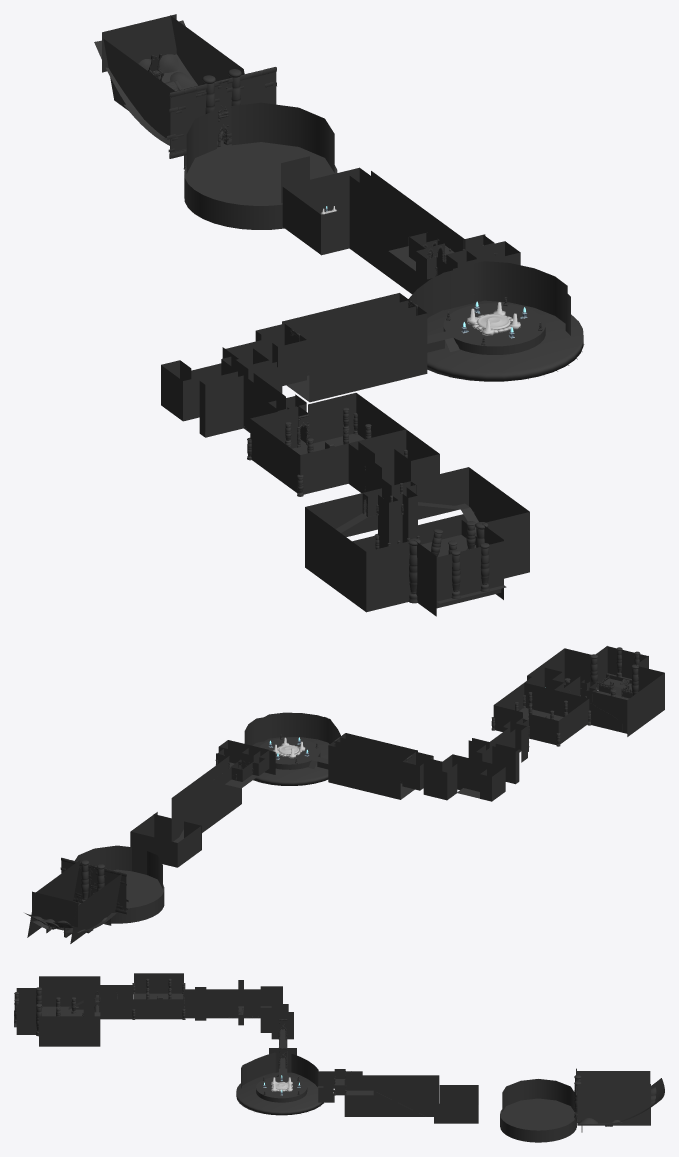
Rendered from Server2.FBX.
The picture shows the model from 3 angles, top to bottom: view 1: azimuth 30°, elevation 25°; view 2: azimuth 150°, elevation 25°; view 3: azimuth 270°, elevation 25°; orthographic projection. The views are drawn at different scales.
Parts seen in each view (by area): view 1: SM_Boss_Room_Floor2, SM_Wall_Tall511, SM_Ceiling_Round2, SM_Wall200, SM_Env_Wall_Alcove_Round_01_Texture5, SM_Wall_Tall103, SM_Env_Wall_Alcove_Round_01_Texture2, SM_Boss_Room_Floor1, SM_Wall_Tall537, SM_Wall_Tall73, SM_Wall_Tall562, SM_Gateway1 (+27 smaller); view 2: SM_Wall_Tall488, SM_Wall200, SM_Boss_Room_Floor2, SM_Env_Wall_Alcove_Round_01_Texture3, SM_Wall_Tall537, SM_Ceiling_Round2, SM_Wall_Tall103, SM_Wall_Tall88, SM_Wall201, SM_Wall_Tall562, SM_Wall_Tall25, SM_Env_Wall_Alcove_Round_01_Texture5 (+17 smaller); view 3: SM_Wall201, SM_Wall_Tall564, SM_Boss_Room_Floor2, SM_Wall_Tall104, SM_Ceiling_Round2, SM_Wall_Tall103, SM_Env_Wall_Alcove_Round_01_Texture6, SM_Wall_Tall272, SM_Wall_Tall262, SM_Wall_Tall599, SM_Wall_Tall537, SM_Wall_Tall326 (+17 smaller).
Part boxes in pixels (x1=…): SM_Boss_Room_Floor2: x1=184, y1=142, x2=337, y2=229; SM_Wall_Tall511: x1=309, y1=313, x2=427, y2=402; SM_Ceiling_Round2: x1=427, y1=300, x2=584, y2=381; SM_Wall200: x1=349, y1=176, x2=442, y2=294; SM_Env_Wall_Alcove_Round_01_Texture5: x1=231, y1=102, x2=334, y2=172; SM_Wall_Tall103: x1=305, y1=507, x2=366, y2=611; SM_Env_Wall_Alcove_Round_01_Texture2: x1=472, y1=261, x2=567, y2=323; SM_Boss_Room_Floor1: x1=443, y1=303, x2=545, y2=354; SM_Wall_Tall537: x1=103, y1=39, x2=174, y2=137; SM_Wall_Tall73: x1=366, y1=540, x2=413, y2=612; SM_Wall_Tall562: x1=102, y1=14, x2=176, y2=72; SM_Gateway1: x1=436, y1=541, x2=503, y2=602; SM_Wall_Tall488: x1=328, y1=745, x2=400, y2=799; SM_Wall200: x1=184, y1=760, x2=241, y2=832; SM_Boss_Room_Floor2: x1=111, y1=869, x2=164, y2=923; SM_Env_Wall_Alcove_Round_01_Texture3: x1=264, y1=712, x2=331, y2=742; SM_Wall_Tall537: x1=70, y1=874, x2=121, y2=943; SM_Ceiling_Round2: x1=252, y1=737, x2=329, y2=785; SM_Wall_Tall103: x1=627, y1=673, x2=664, y2=736; SM_Wall_Tall88: x1=524, y1=683, x2=588, y2=716; SM_Wall201: x1=171, y1=756, x2=229, y2=841; SM_Wall_Tall562: x1=32, y1=891, x2=77, y2=927; SM_Wall_Tall25: x1=580, y1=688, x2=627, y2=724; SM_Env_Wall_Alcove_Round_01_Texture5: x1=75, y1=845, x2=131, y2=871; SM_Wall201: x1=344, y1=1080, x2=439, y2=1116; SM_Wall_Tall564: x1=577, y1=1084, x2=650, y2=1125; SM_Boss_Room_Floor2: x1=500, y1=1098, x2=576, y2=1142; SM_Wall_Tall104: x1=39, y1=1016, x2=100, y2=1046; SM_Ceiling_Round2: x1=236, y1=1072, x2=323, y2=1115; SM_Wall_Tall103: x1=39, y1=976, x2=100, y2=1006; SM_Env_Wall_Alcove_Round_01_Texture6: x1=502, y1=1079, x2=574, y2=1111; SM_Wall_Tall272: x1=134, y1=999, x2=183, y2=1019; SM_Wall_Tall262: x1=134, y1=973, x2=183, y2=993; SM_Wall_Tall599: x1=434, y1=1103, x2=478, y2=1123; SM_Wall_Tall537: x1=577, y1=1071, x2=650, y2=1083; SM_Wall_Tall326: x1=206, y1=991, x2=238, y2=1018.
Bounding box in the file's own units: 23903 × 58503 × 6338.
